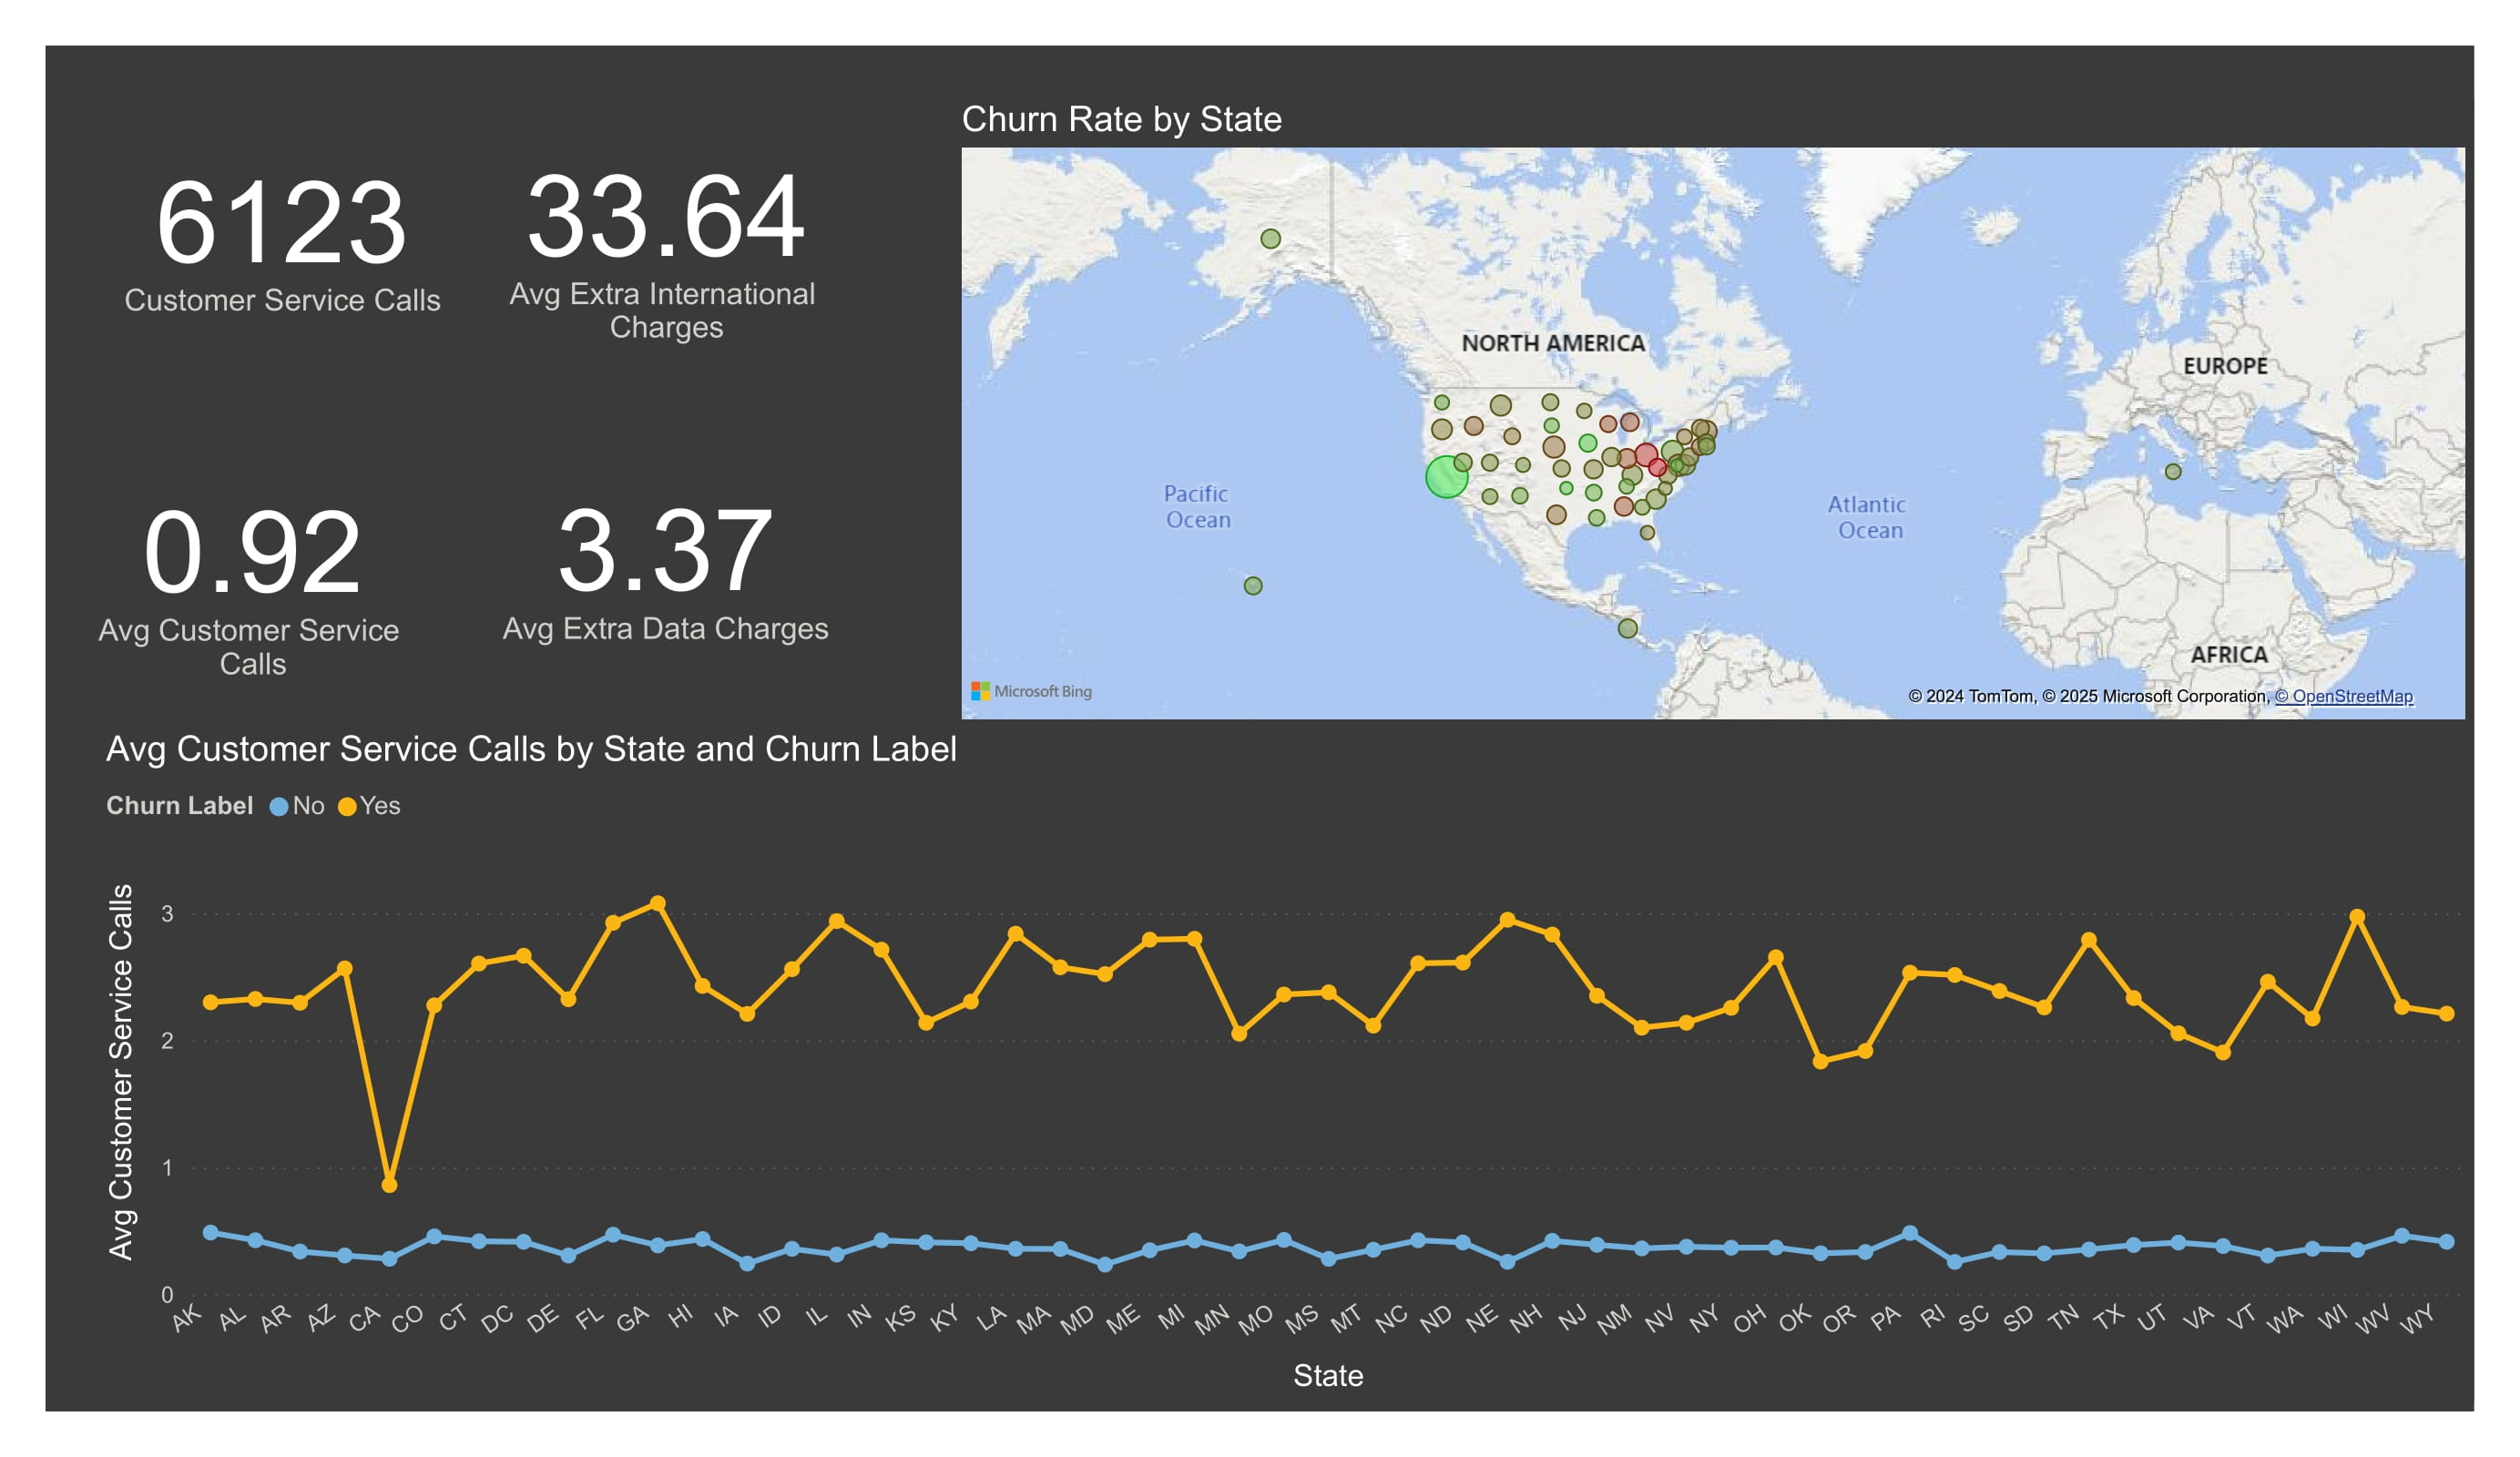

The dashboard page shown, as its layout file describes it:
{"tool":"powerbi","page":{"name":"Insights","canvas":[1280,720],"ordinal":9},"visuals":[{"type":"card","fields":{"Values":["Sum(Databel - Data.Customer Service Calls)"]},"box":[27.6,6.1,194.4,182.2],"z":0},{"type":"card","fields":{"Values":["Databel - Data.Avg Customer Service Calls"]},"box":[12.2,186.8,194.4,168.4],"z":1000},{"type":"card","fields":{"Values":["Databel - Data.Avg Extra International Charges"]},"box":[222,0,211.3,186.8],"z":2000},{"type":"card","fields":{"Values":["Databel - Data.Avg Extra Data Charges"]},"box":[209.8,165.4,234.3,209.8],"z":3000},{"type":"lineChart","fields":{"Category":["Databel - Data.State"],"Y":["Databel - Data.Avg Customer Service Calls"],"Series":["Databel - Data.Churn Label"]},"box":[27.2,359.9,1252.8,355],"z":4000},{"type":"map","fields":{"Category":["Databel - Data.State"],"Size":["Databel - Data.Churn Rate"]},"box":[477.7,27.6,802.3,332.2],"z":5000}]}

Visuals, with their boxes on the page's 1280x720 design canvas (x1, y1, x2, y2). These are canvas units, not pixel positions in the 2520x1457 screenshot, which may show the page scaled, cropped or inside an application window:
card - Sum(Databel - Data.Customer Service Calls): <box>28,6,222,188</box>
card - Databel - Data.Avg Customer Service Calls: <box>12,187,207,355</box>
card - Databel - Data.Avg Extra International Charges: <box>222,0,433,187</box>
card - Databel - Data.Avg Extra Data Charges: <box>210,165,444,375</box>
lineChart - Databel - Data.State x Databel - Data.Avg Customer Service Calls: <box>27,360,1280,715</box>
map - Databel - Data.State x Databel - Data.Churn Rate: <box>478,28,1280,360</box>
